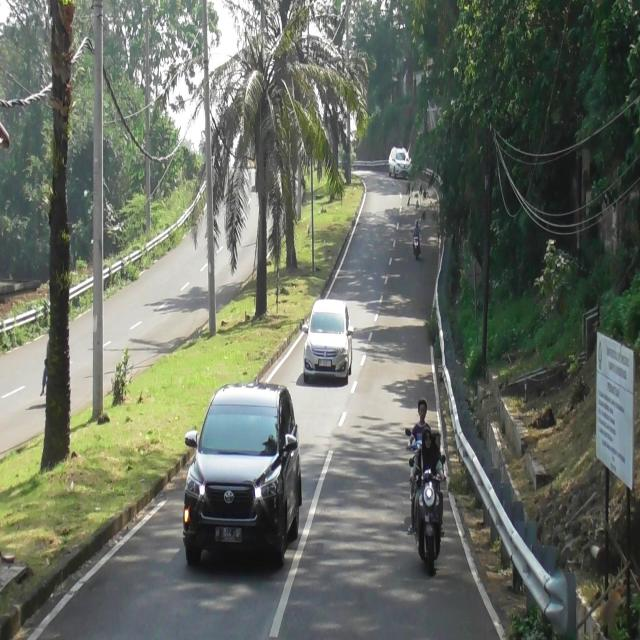motorcycle: (410, 456, 444, 573), (412, 236, 422, 260)
person: (416, 432, 439, 476), (412, 396, 432, 436), (432, 428, 442, 451), (413, 220, 422, 238)
rider_region: (406, 433, 452, 577), (412, 215, 424, 263)
